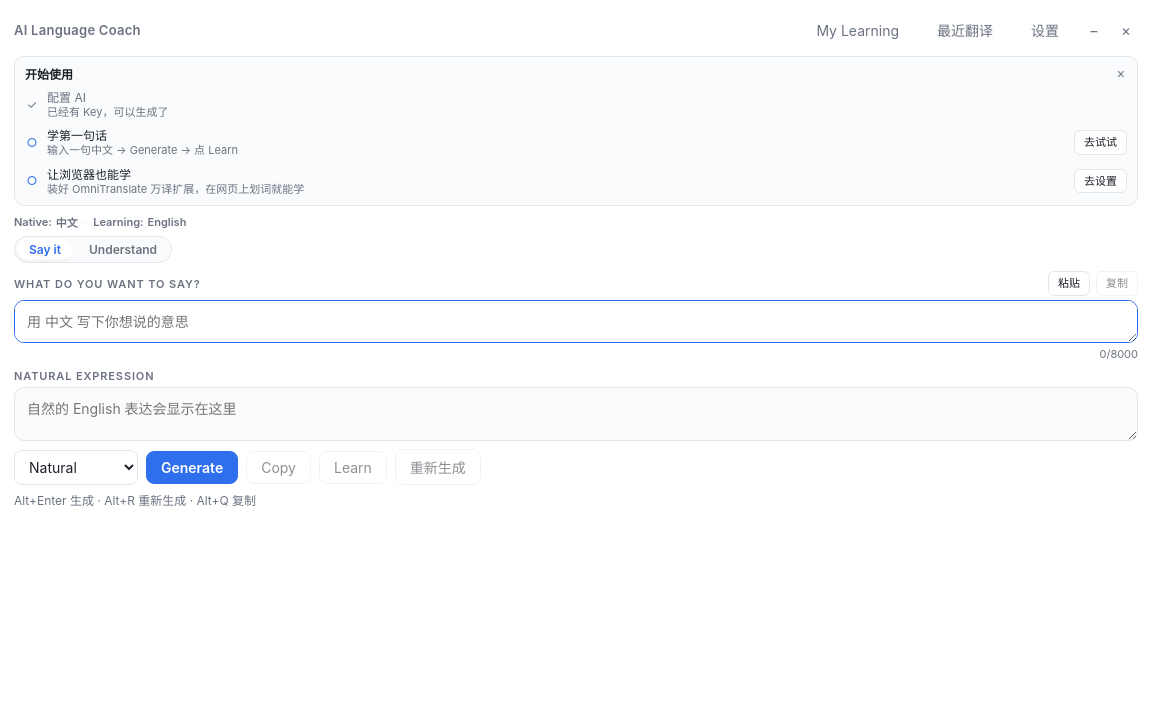
Test: AssistantPage › copies the input back to the clipboard
Type "我想说这个" into the text box with placeholder "用 中文 写下你想说的意思" at (576, 322), box [14, 300, 1138, 343]
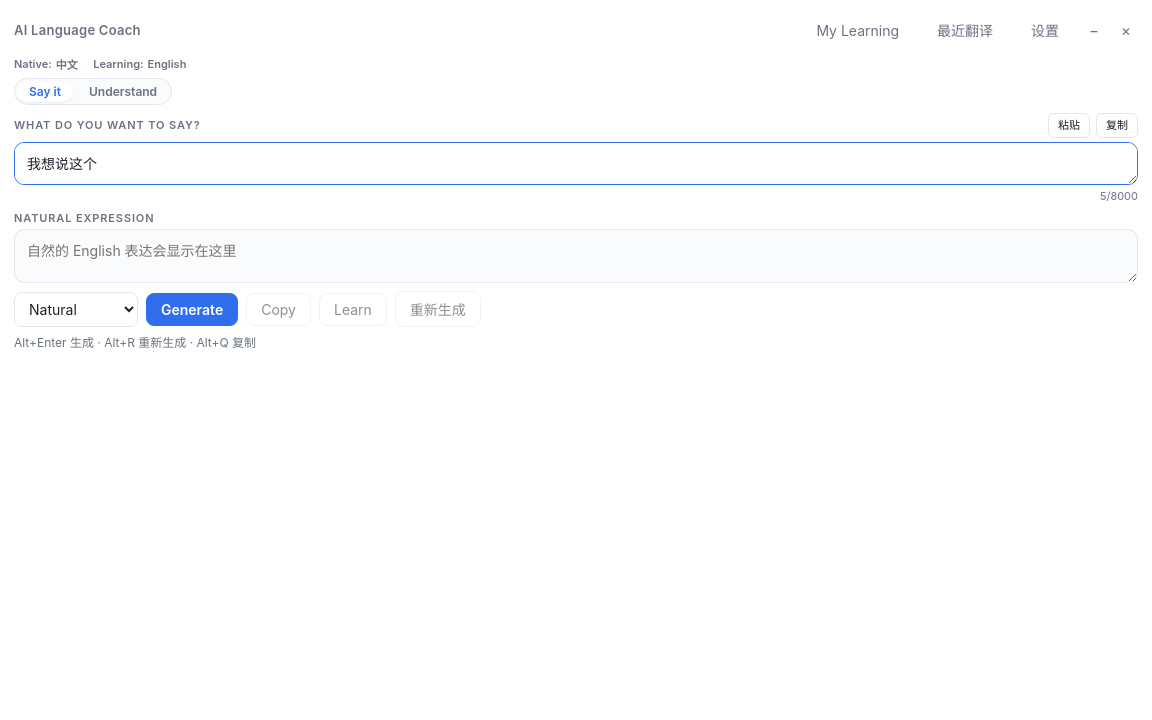
Click the button with aria-label "复制输入内容" at (1117, 125), box [1096, 113, 1138, 138]
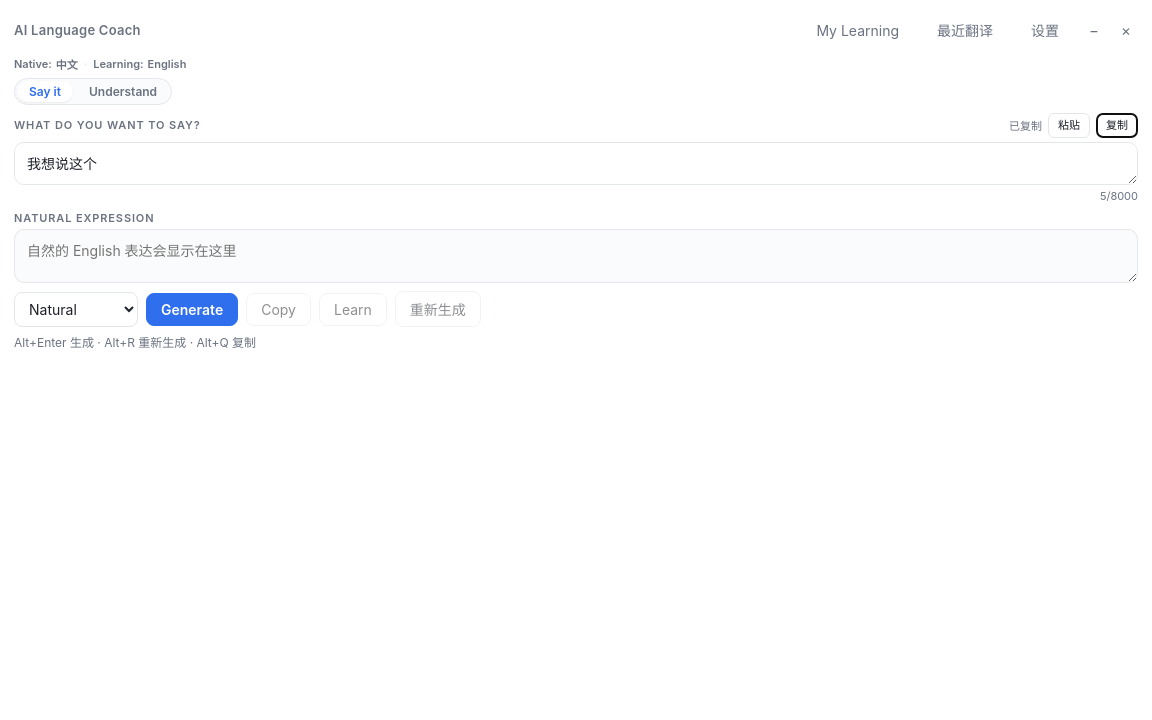
Check: the text "已复制" is shown, box [1009, 117, 1042, 133]
